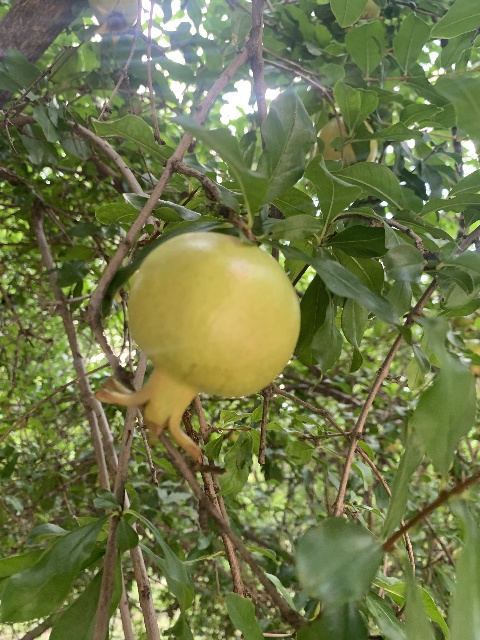mid-growth: (94, 231, 301, 462), (319, 117, 373, 166)
